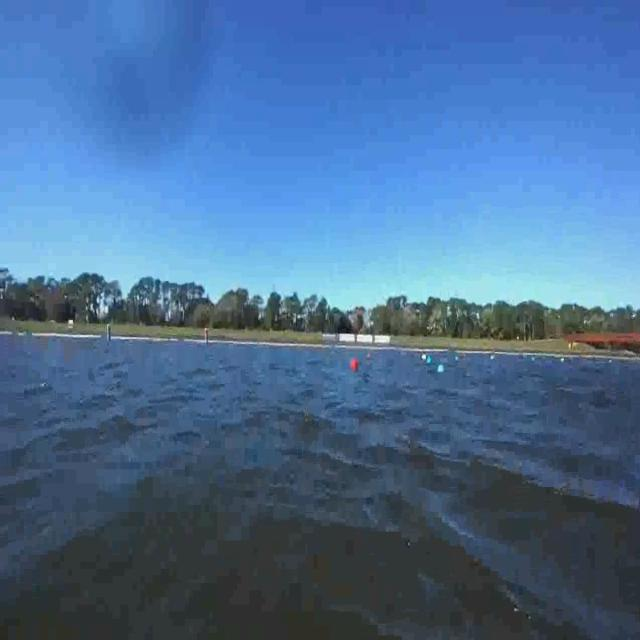green-buoy: (437, 365, 444, 373)
red-buoy: (351, 358, 359, 372)
